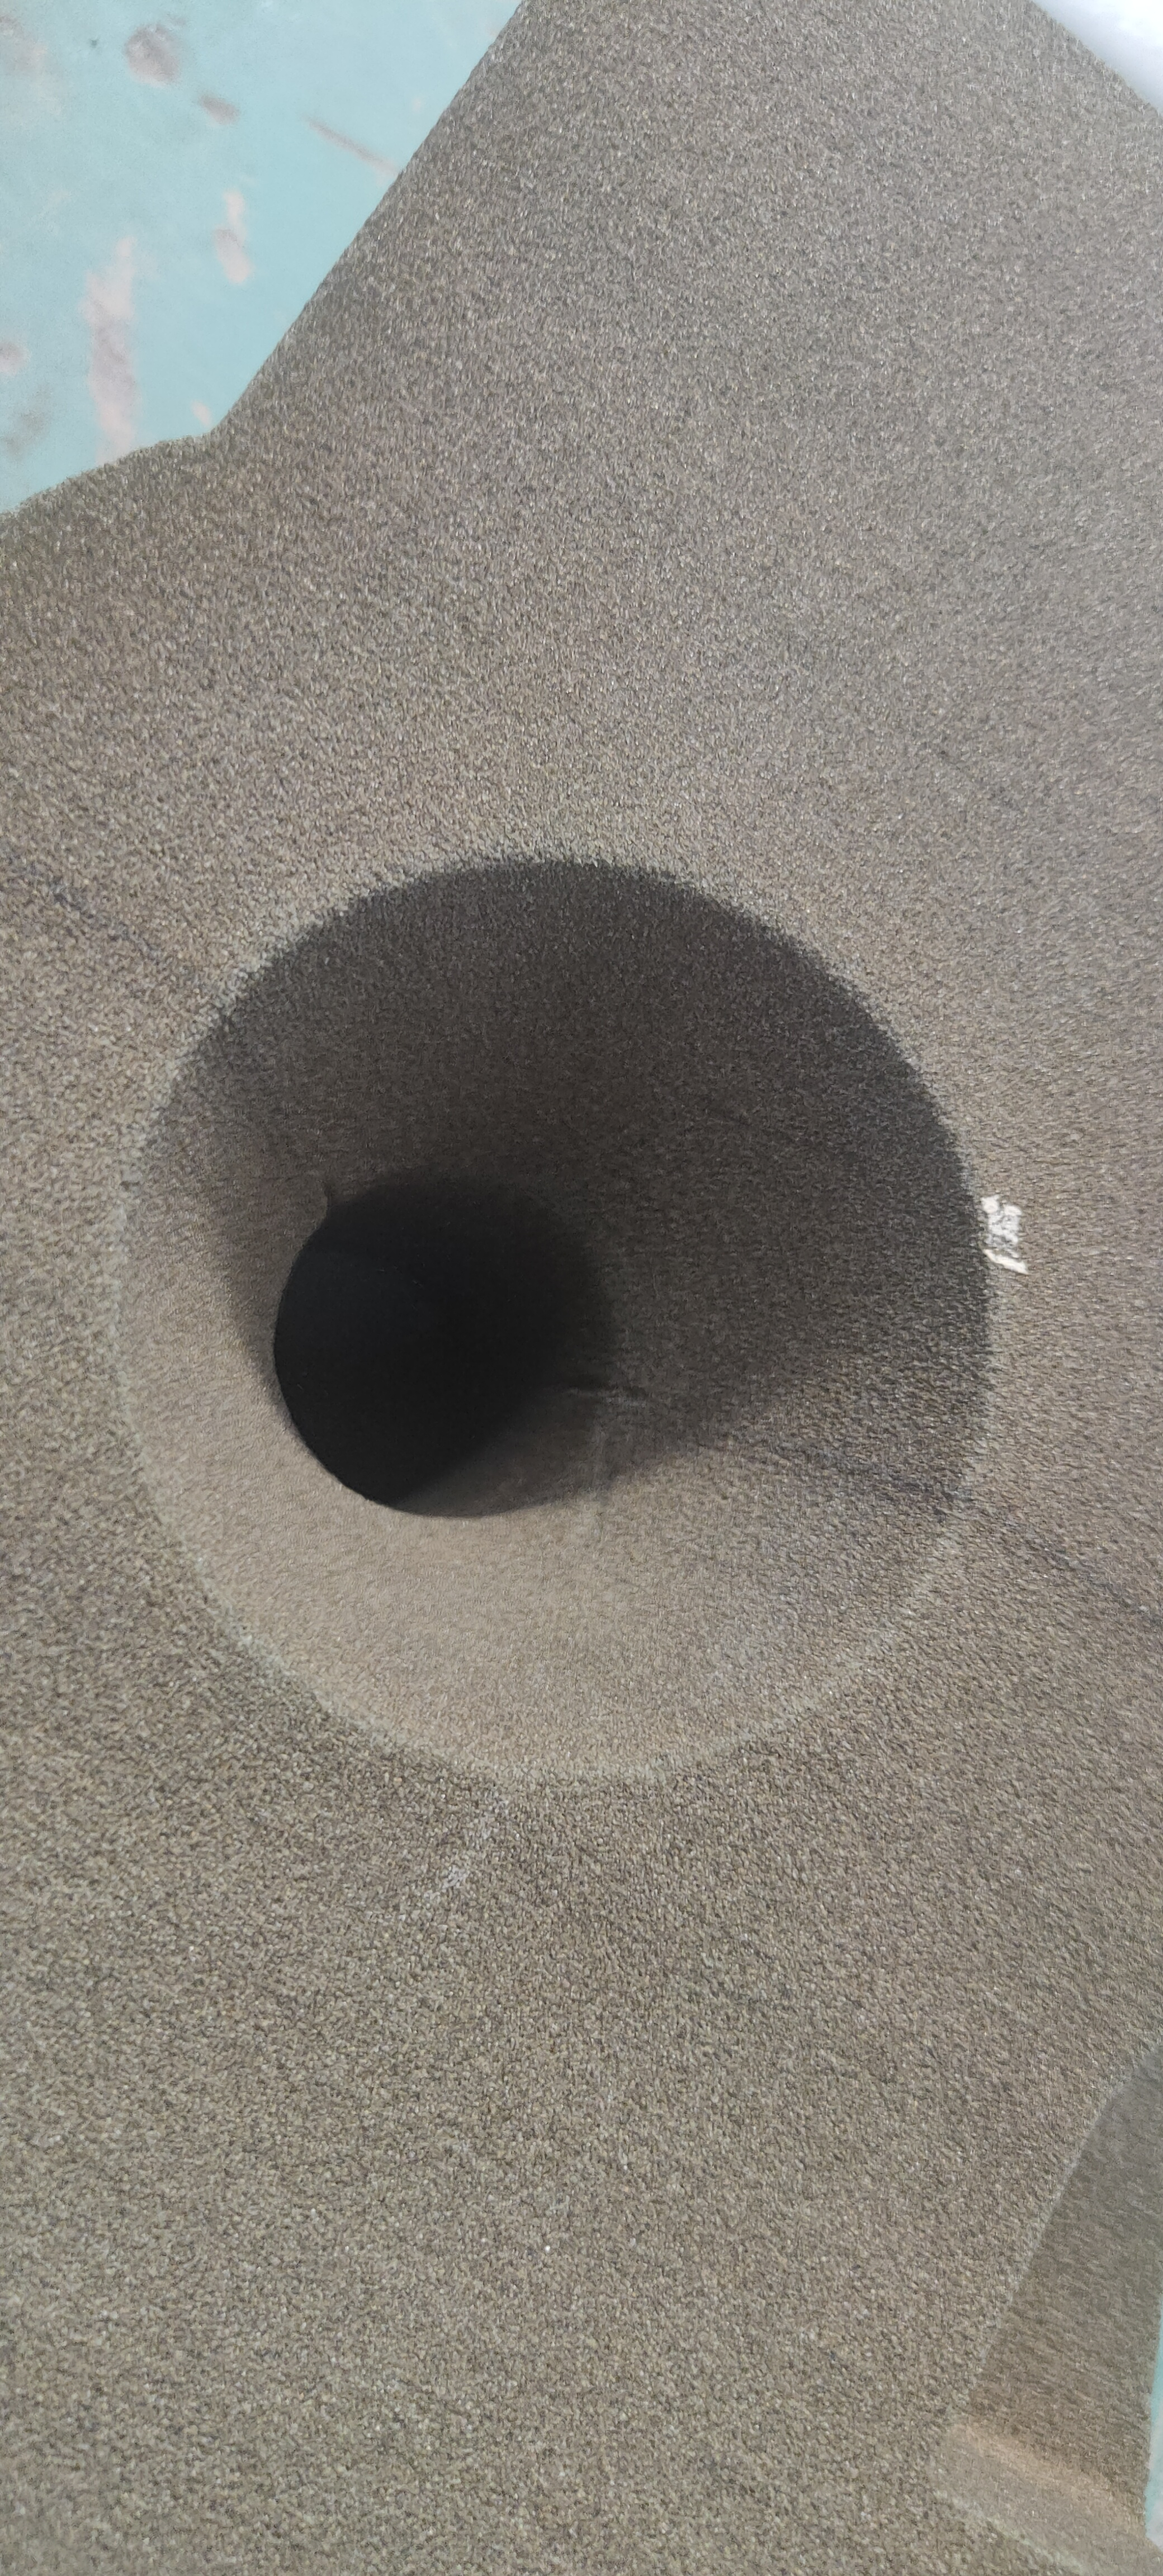pouring hole: (108, 856, 995, 1786)
